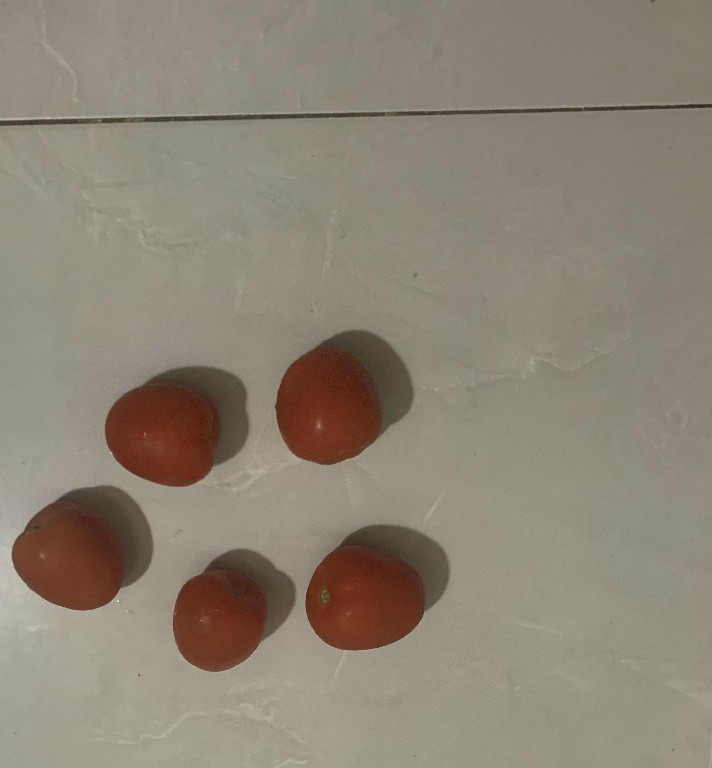OK: (303, 543, 431, 653), (7, 496, 125, 613), (273, 343, 382, 465), (105, 378, 211, 490), (170, 563, 269, 673)
